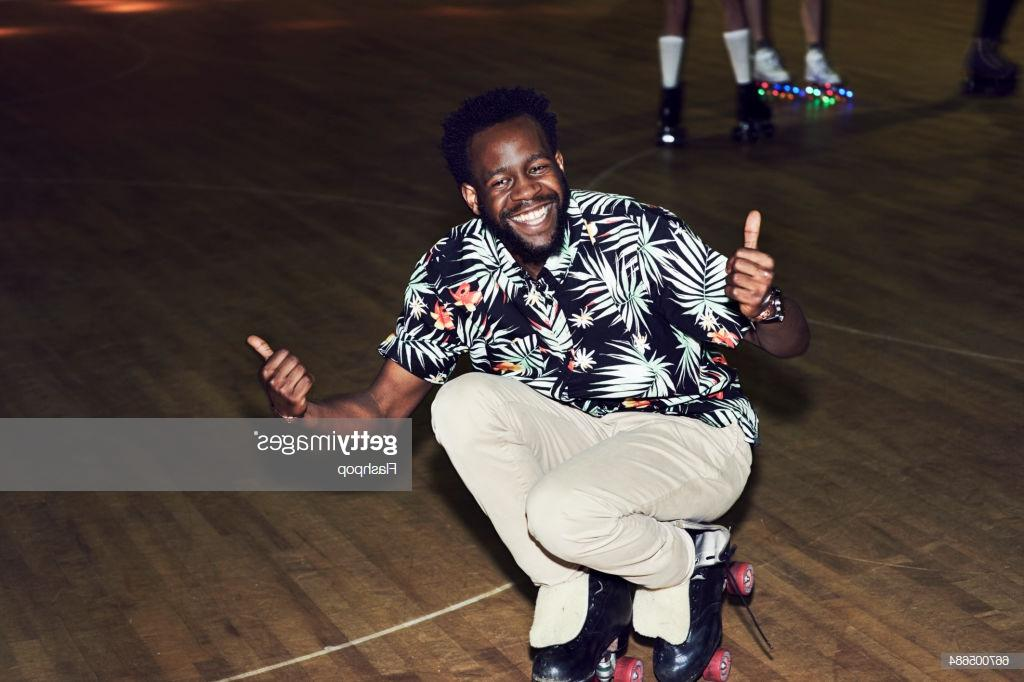thumbsup: (246, 334, 317, 405), (724, 209, 776, 305)
